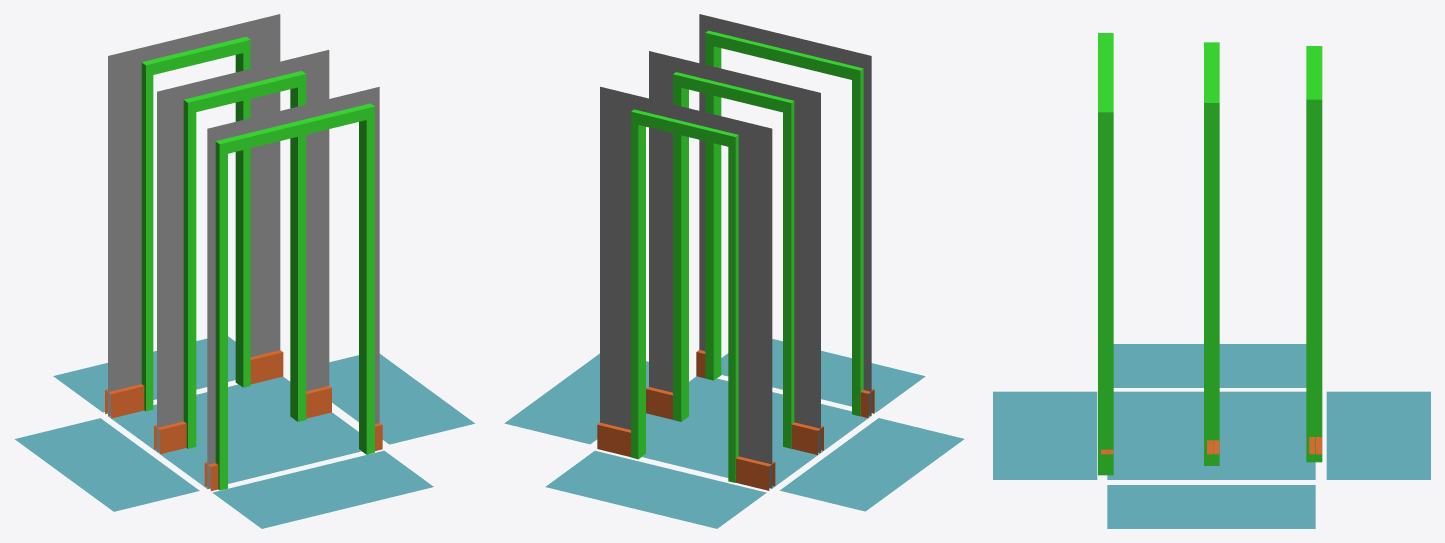
The model's file is ModuleE_doorframe1.FBX.
3 views of the same model, side by side, from view 1: azimuth 30°, elevation 25°; view 2: azimuth 150°, elevation 25°; view 3: azimuth 270°, elevation 25° (orthographic). The views are drawn at different scales.
Parts seen in each view (by area): view 1: Interior_door_a, Interior_door_b, Interior_door_c, ModuleE_floor02, ModuleE_floor05, ModuleE_floor04, ModuleE_floor01, ModuleE_floor03, Interior_doorskb_01, Interior_doorskb_02, Interior_doorskb_03; view 2: Interior_door_a, Interior_door_b, Interior_door_c, ModuleE_floor02, ModuleE_floor03, ModuleE_floor04, ModuleE_floor01, ModuleE_floor05, Interior_doorskb_01, Interior_doorskb_02, Interior_doorskb_03; view 3: ModuleE_floor02, ModuleE_floor03, ModuleE_floor05, ModuleE_floor01, ModuleE_floor04, Interior_door_c, Interior_door_a, Interior_door_b.
Part boxes in pixels (x1,y1,x2,y2): Interior_door_a: (108, 14, 280, 416); Interior_door_b: (157, 50, 329, 451); Interior_door_c: (207, 87, 379, 490); ModuleE_floor02: (108, 376, 361, 488); ModuleE_floor05: (212, 450, 433, 528); ModuleE_floor04: (15, 418, 199, 511); ModuleE_floor01: (329, 354, 474, 444); ModuleE_floor03: (53, 336, 235, 412); Interior_doorskb_01: (105, 350, 283, 418); Interior_doorskb_02: (154, 386, 331, 454); Interior_doorskb_03: (204, 423, 382, 490); Interior_door_a: (600, 86, 772, 488); Interior_door_b: (649, 51, 820, 452); Interior_door_c: (699, 14, 871, 416); ModuleE_floor02: (642, 376, 870, 488); ModuleE_floor03: (545, 451, 766, 528); ModuleE_floor04: (780, 418, 964, 511); ModuleE_floor01: (504, 353, 648, 444); ModuleE_floor05: (721, 339, 925, 412); Interior_doorskb_01: (597, 422, 775, 490); Interior_doorskb_02: (646, 387, 823, 454); Interior_doorskb_03: (696, 350, 874, 418); ModuleE_floor02: (1107, 391, 1315, 479); ModuleE_floor03: (1326, 391, 1430, 479); ModuleE_floor05: (993, 391, 1097, 479); ModuleE_floor01: (1107, 485, 1315, 528); ModuleE_floor04: (1113, 344, 1306, 387); Interior_door_c: (1098, 33, 1113, 475); Interior_door_a: (1306, 46, 1322, 462); Interior_door_b: (1204, 42, 1219, 465).
Bounding box in the file's own units: 82.7 × 82.72 × 78.8.
